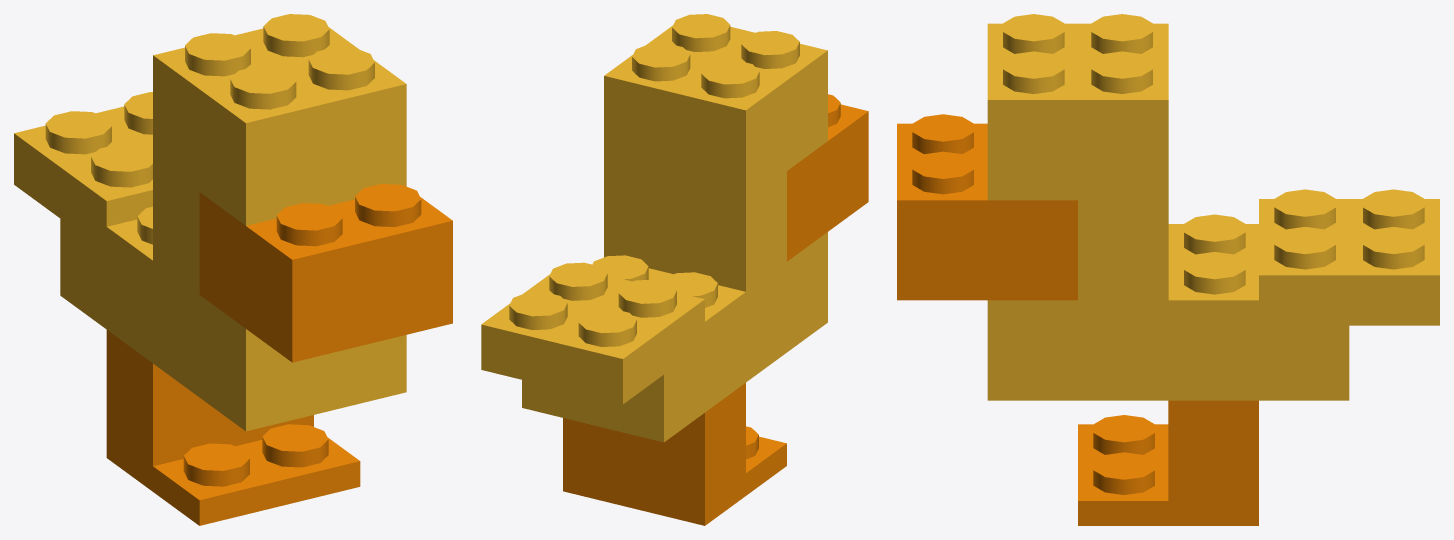
The model's file is Duck01.FBX.
3 views of the same model, side by side, from view 1: azimuth 30°, elevation 25°; view 2: azimuth 150°, elevation 25°; view 3: azimuth 270°, elevation 25° (orthographic). The views are drawn at different scales.
Parts seen in each view (by area): view 1: Duck; view 2: Duck; view 3: Duck.
Part boxes in pixels (box(x1,y1,x2,y2)): Duck: box(14, 14, 452, 525); Duck: box(481, 14, 868, 525); Duck: box(897, 14, 1439, 525).
Size of the model in its own units: 90 by 242 by 270.
